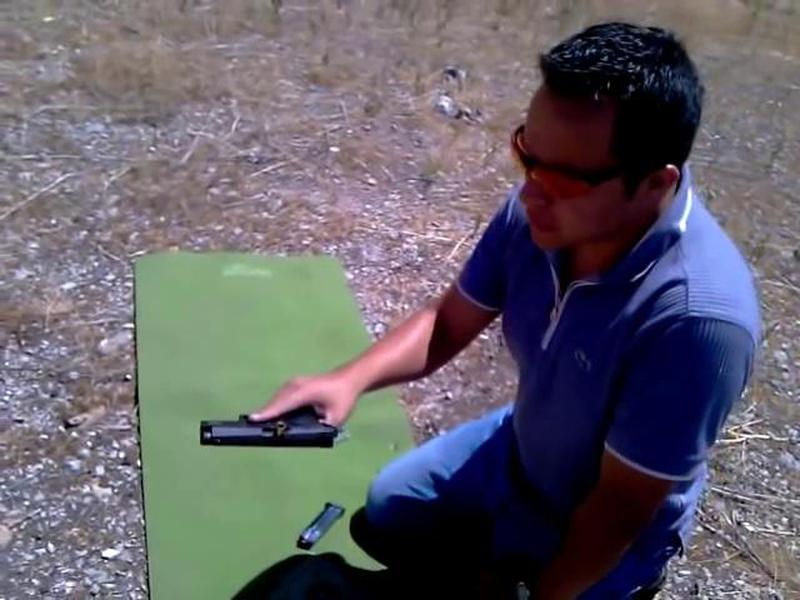Pistola: (166, 391, 362, 464)
